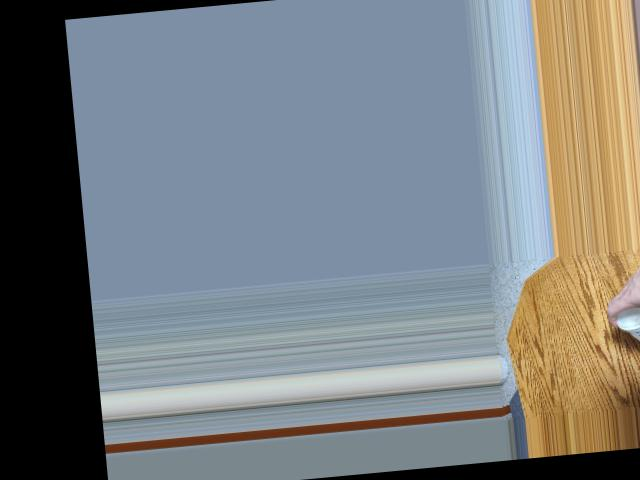cotage: (606, 306, 640, 347)
